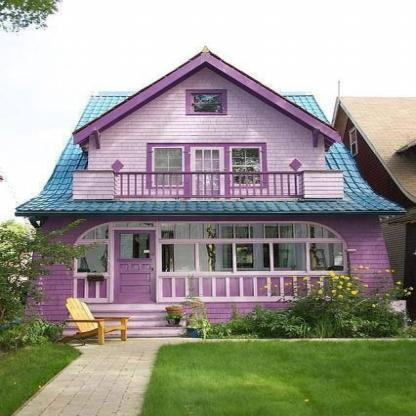Balcony: (73, 171, 343, 199)
Building Outline: (15, 45, 406, 337)
Dont: (164, 265, 416, 339), (0, 218, 132, 354)
Door: (115, 230, 156, 302), (191, 147, 224, 199)
Facade: (89, 100, 316, 337)
Floor: (41, 206, 377, 303), (89, 135, 324, 200), (41, 200, 377, 206)
Floor Slab: (89, 130, 324, 135)
Roof: (15, 135, 406, 213), (73, 92, 138, 131), (275, 92, 333, 127)
Top Floor: (104, 67, 311, 131)
Window: (161, 224, 340, 239), (231, 147, 263, 186), (153, 147, 185, 186), (310, 243, 344, 271), (274, 243, 307, 271), (162, 244, 195, 272), (200, 244, 233, 272), (237, 243, 270, 271), (77, 245, 108, 273), (191, 93, 223, 113), (81, 224, 108, 239), (116, 224, 153, 227)
